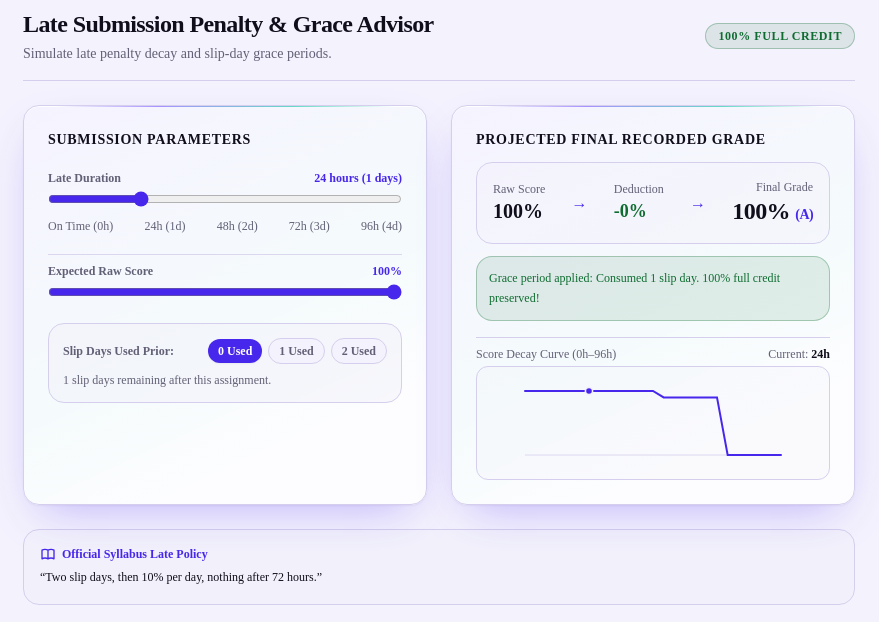
Test: LatePenaltyAdvisor with a known policy › updates live score calculation when hours late slider moves
Step 1. Set the slider named "Hours Late Slider" to "48" → (225, 199), box [48,195,402,203]
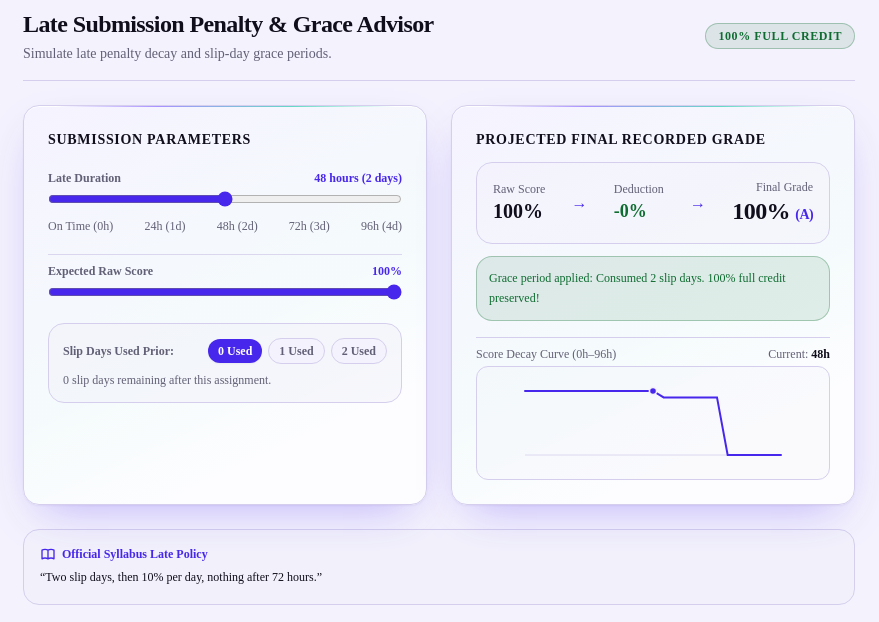
Expected: the text "48 hours (2 days)" is shown, [314,170,402,186]
